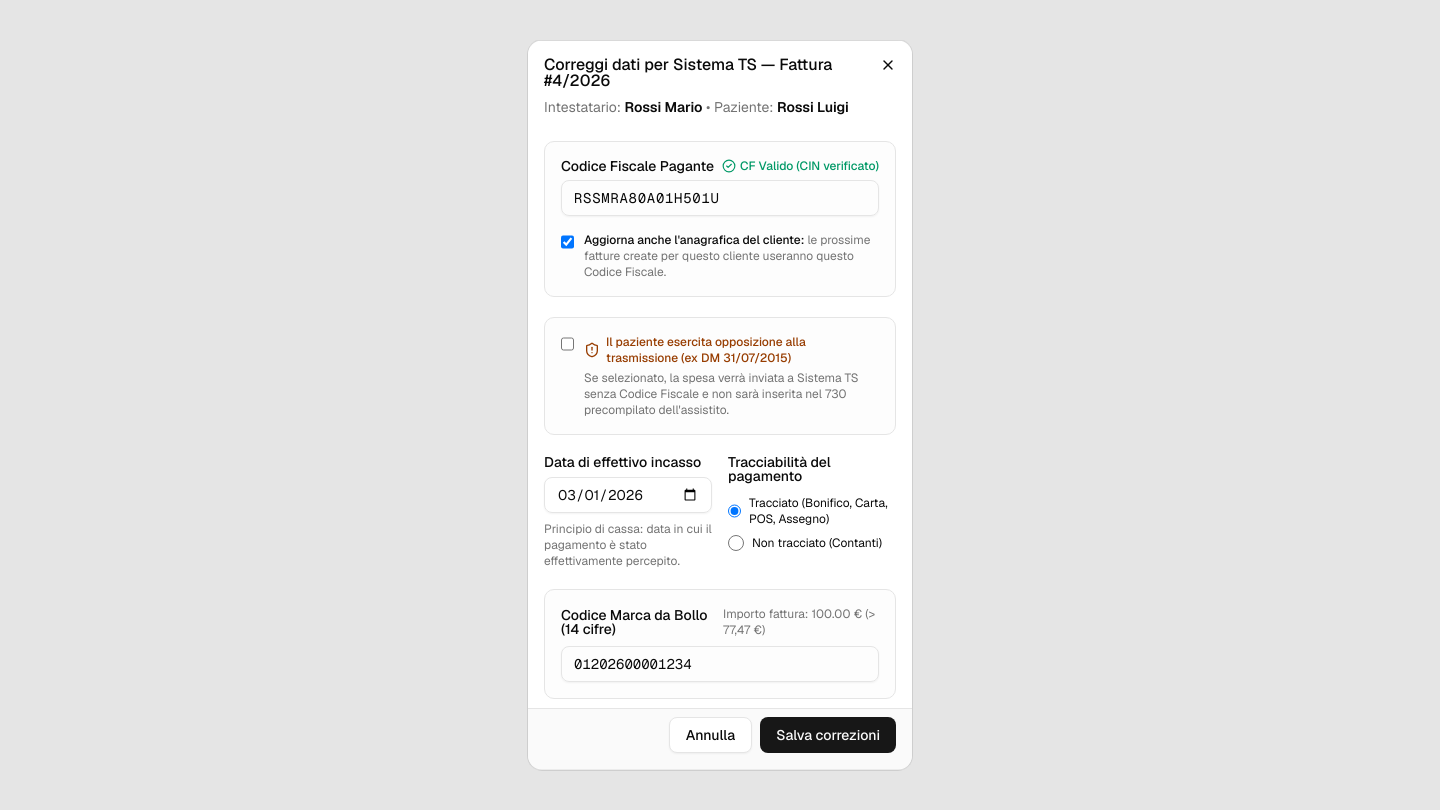
FixInvoiceTsDialog › mostra errore di validazione e disabilita il submit se la data non esiste nel calendario reale
Expected: the button "Salva correzioni" is enabled, x1=760 y1=718 x2=896 y2=754
Clear the date field labelled "Data di effettivo incasso" at (628, 494), box x1=544 y1=476 x2=712 y2=512
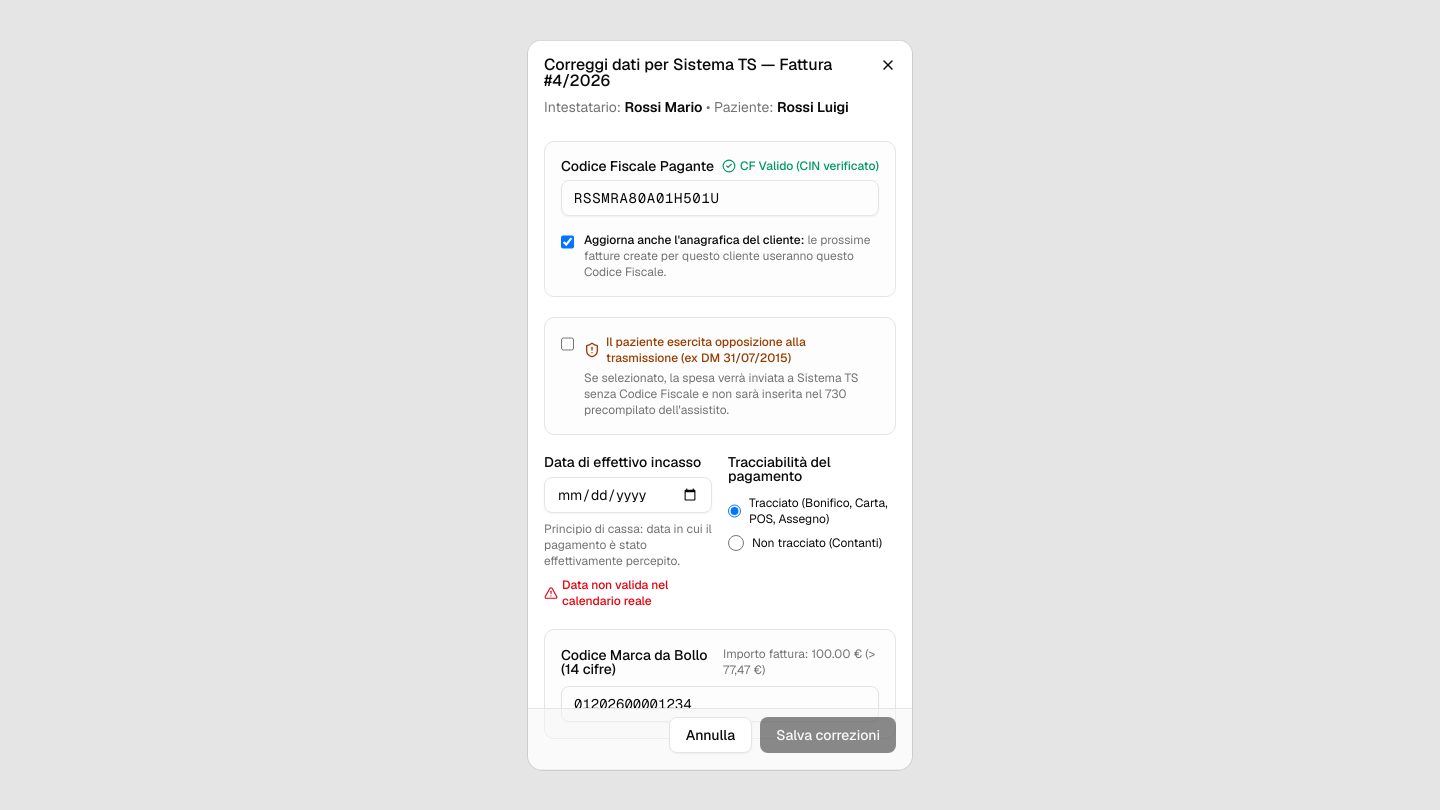
Expected: the text "Data non valida nel calendario reale" is shown, x1=544 y1=576 x2=668 y2=608
Expected: the button "Salva correzioni" is disabled, x1=760 y1=718 x2=896 y2=754
Type "2026-04-30" into the date field labelled "Data di effettivo incasso" at (628, 494), box x1=544 y1=476 x2=712 y2=512
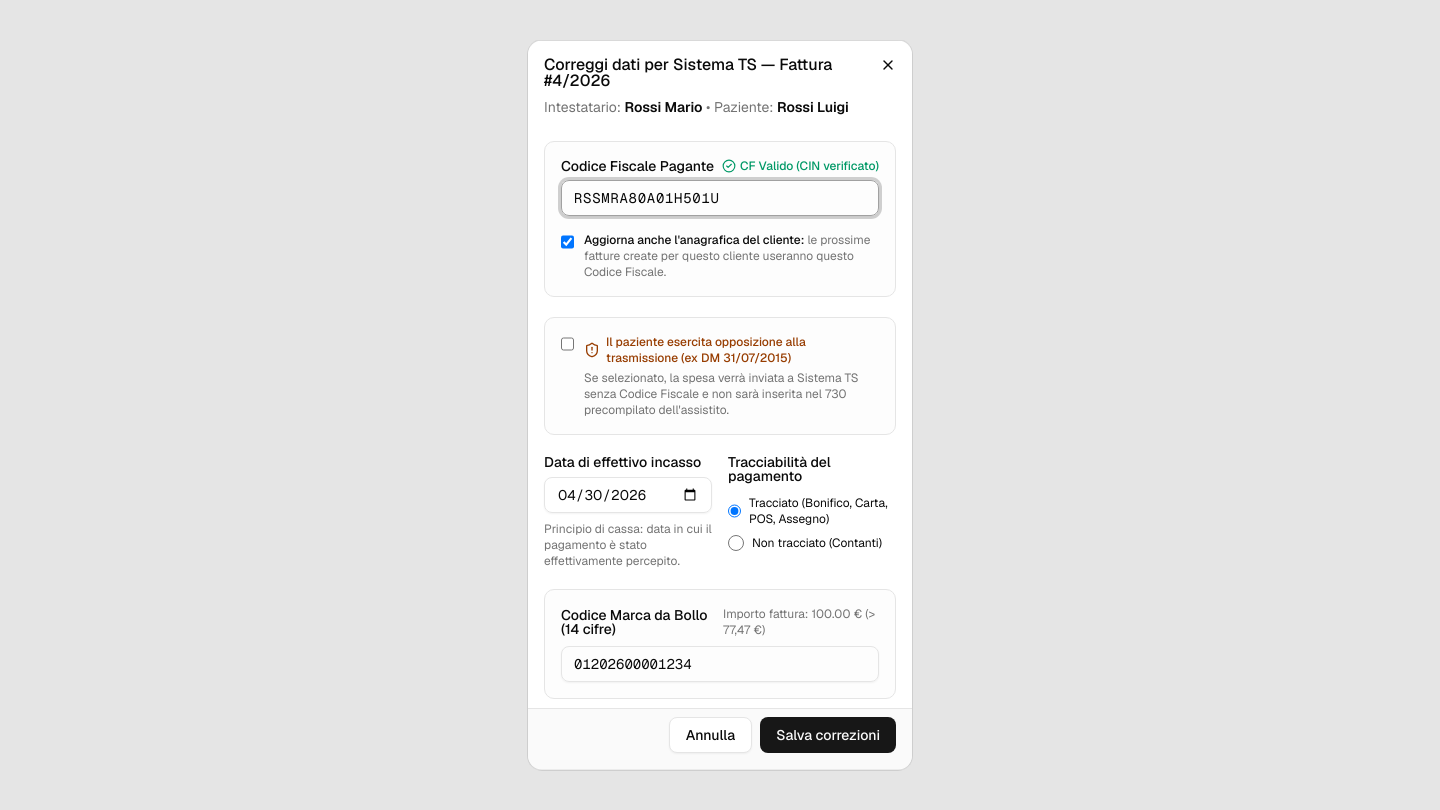
Expected: the text "Data non valida nel calendario reale" is gone
Expected: the button "Salva correzioni" is enabled, x1=760 y1=718 x2=896 y2=754
